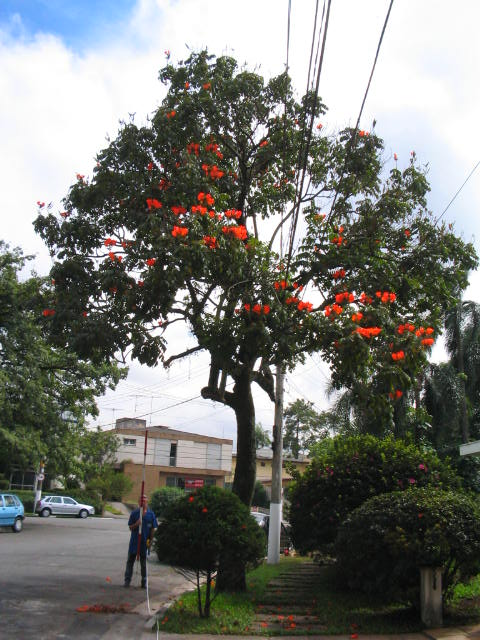crown: (37, 46, 476, 418)
stem: (204, 407, 267, 591)
stick: (133, 428, 150, 588)
tree: (34, 44, 476, 592)
